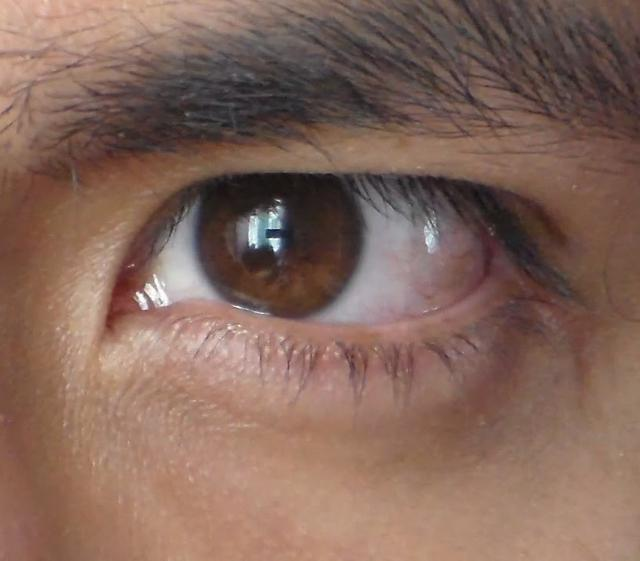eye: (200, 175, 366, 317)
